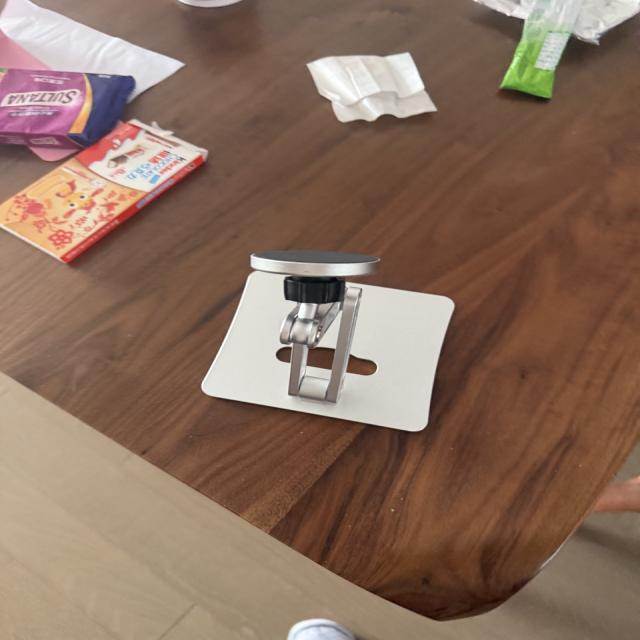phone holder: (180, 241, 468, 435)
